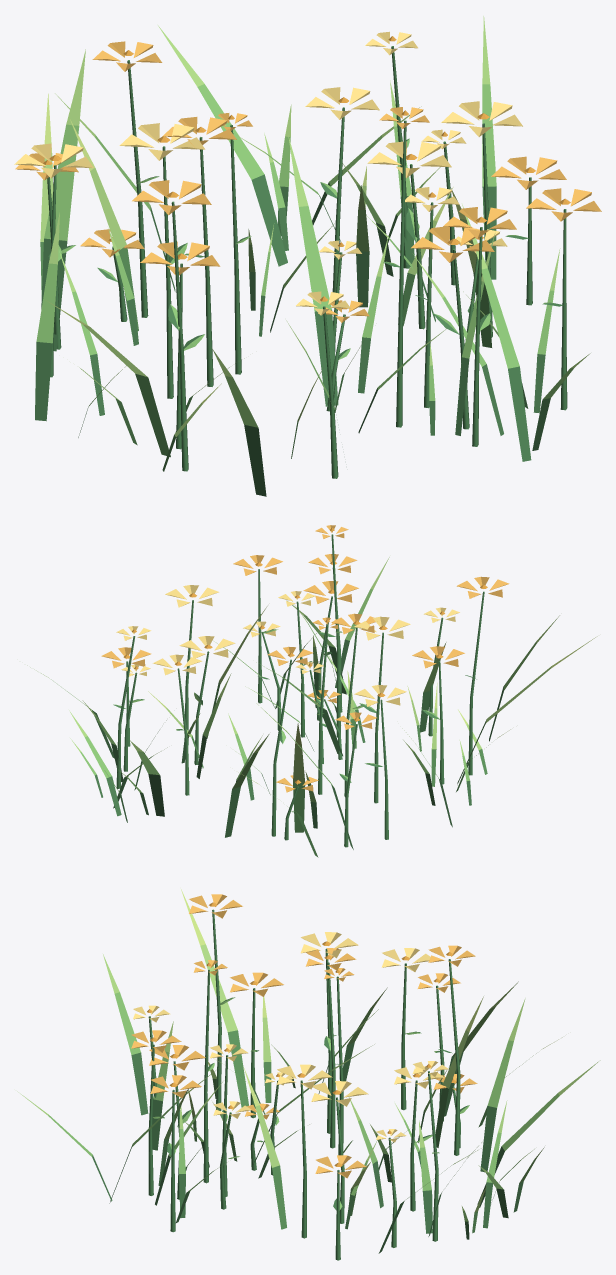
Rendered from Flower_04_Yellow.glb.
3 views of the same model, one above another, from view 1: azimuth 30°, elevation 25°; view 2: azimuth 150°, elevation 25°; view 3: azimuth 270°, elevation 25° (orthographic). The views are drawn at different scales.
Visible parts, largest first — view 1: Flower_04_Yellow; view 2: Flower_04_Yellow; view 3: Flower_04_Yellow.
Part boxes in pixels (<box>): Flower_04_Yellow: <box>14,16,601,496</box>; Flower_04_Yellow: <box>27,525,597,857</box>; Flower_04_Yellow: <box>17,889,600,1260</box>.
Size of the model in its own units: 1.22 by 0.5509 by 1.32.
